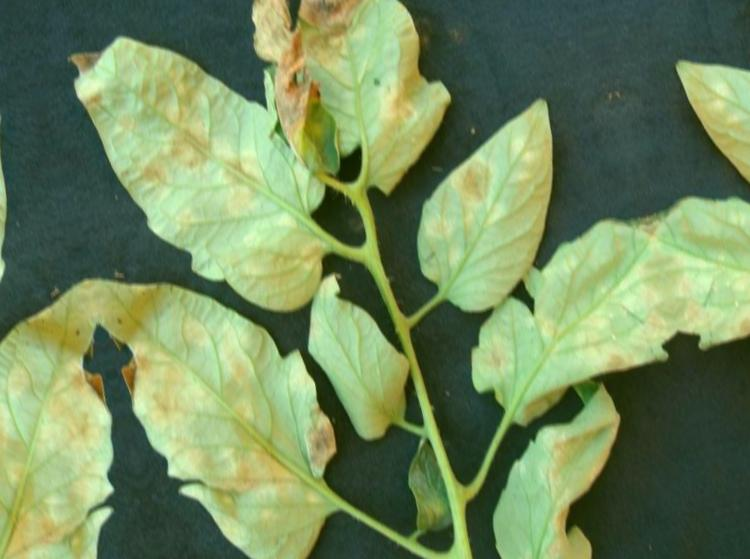Tomato mold leaf: (55, 0, 369, 366), (77, 196, 379, 559), (433, 208, 693, 443), (385, 93, 611, 331), (294, 0, 473, 204), (465, 384, 665, 559), (287, 270, 428, 467)
